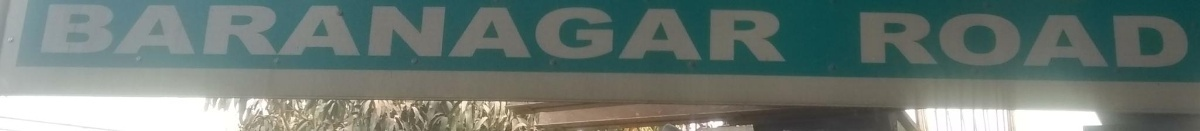text: (49, 2, 64, 64), (65, 2, 80, 64), (81, 2, 96, 64), (97, 2, 112, 64), (113, 2, 128, 64), (129, 2, 144, 64), (145, 2, 160, 64), (161, 2, 176, 64), (177, 2, 192, 64), (193, 2, 208, 64), (209, 2, 224, 64), (225, 2, 240, 64), (241, 2, 256, 64), (257, 2, 272, 64), (273, 2, 288, 64), (289, 2, 304, 64), (305, 2, 320, 64), (321, 2, 336, 64), (337, 2, 352, 64), (353, 2, 368, 64), (369, 2, 384, 64), (385, 2, 400, 64), (401, 2, 416, 64), (417, 2, 432, 64), (433, 2, 448, 64), (449, 2, 464, 64), (465, 2, 480, 64), (481, 2, 496, 64), (497, 2, 512, 64), (513, 2, 528, 64), (529, 2, 544, 64), (545, 2, 560, 64), (561, 2, 576, 64), (577, 2, 592, 64), (593, 2, 608, 64), (609, 2, 624, 64), (625, 2, 640, 64), (641, 2, 656, 64), (657, 2, 672, 64), (673, 2, 688, 64), (689, 2, 704, 64), (705, 2, 720, 64), (721, 2, 736, 64), (737, 2, 752, 64), (753, 2, 768, 64), (769, 2, 784, 64), (865, 10, 880, 71), (881, 10, 896, 71), (897, 10, 912, 71), (913, 10, 928, 71), (929, 10, 944, 71), (945, 10, 960, 71), (961, 10, 976, 71), (977, 10, 992, 71), (993, 10, 1008, 71), (1009, 10, 1024, 71), (1025, 10, 1040, 71), (1041, 10, 1056, 71), (1057, 10, 1072, 71), (1073, 10, 1088, 71), (1089, 10, 1104, 71), (1105, 10, 1120, 71), (1121, 10, 1136, 71), (1137, 10, 1152, 71), (1153, 10, 1168, 71), (1169, 10, 1184, 71), (39, 2, 48, 64), (857, 10, 864, 71), (1185, 10, 1191, 71), (785, 2, 787, 64)
